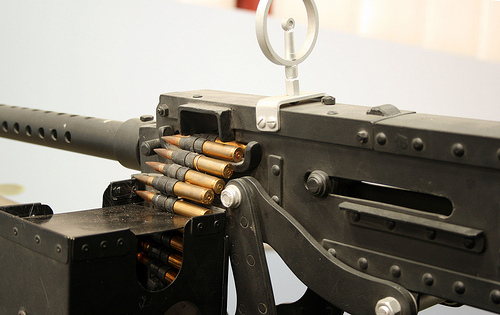rifle: (6, 69, 495, 305)
